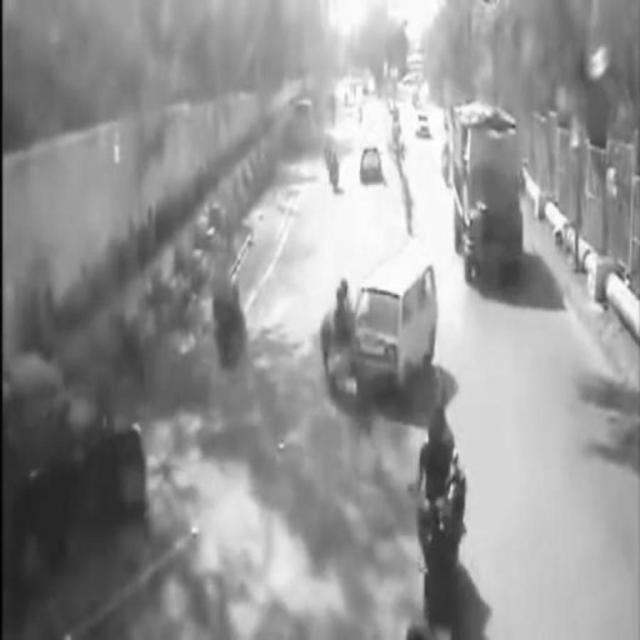accident: (315, 255, 449, 397)
vehicle: (454, 120, 532, 278), (411, 412, 473, 590)
